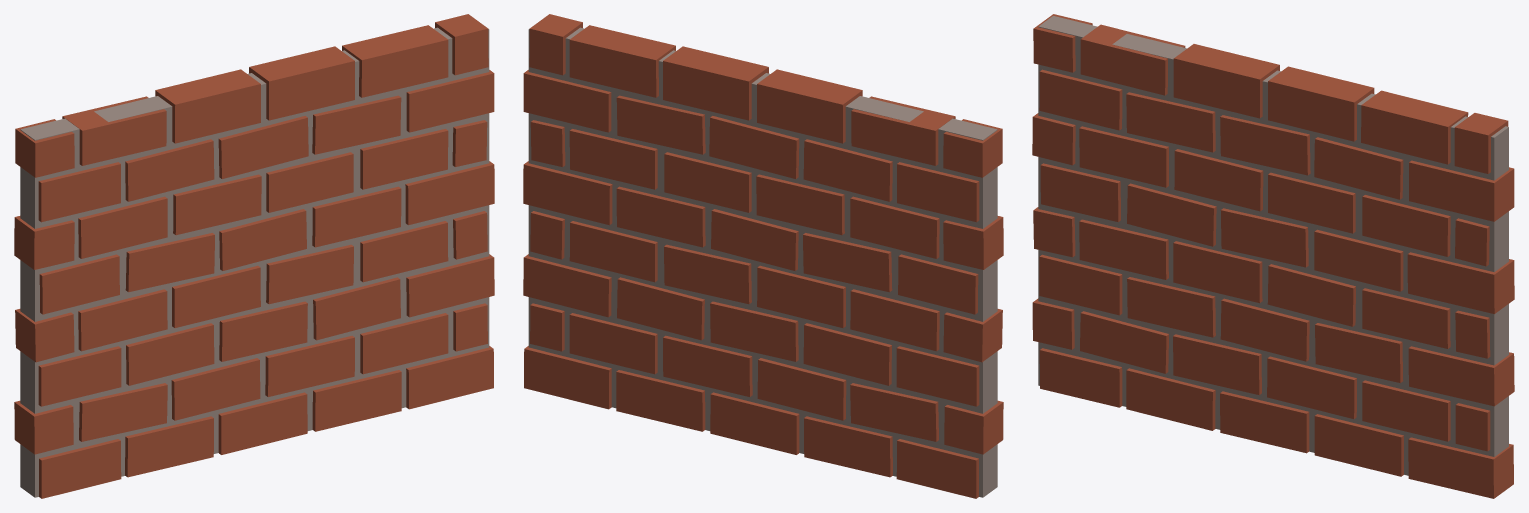
Rendered from wall_brick.glb.
The picture shows the model from 3 angles, left to right: view 1: azimuth 30°, elevation 25°; view 2: azimuth 150°, elevation 25°; view 3: azimuth 330°, elevation 25°; orthographic projection.
Visible parts, largest first — view 1: Body; view 2: Body; view 3: Body.
Part boxes in pixels (x1=…): Body: x1=14, y1=14, x2=494, y2=498; Body: x1=523, y1=14, x2=1003, y2=498; Body: x1=1032, y1=14, x2=1514, y2=498.
Bounding box in the file's own units: 3.99 × 3 × 0.3.
